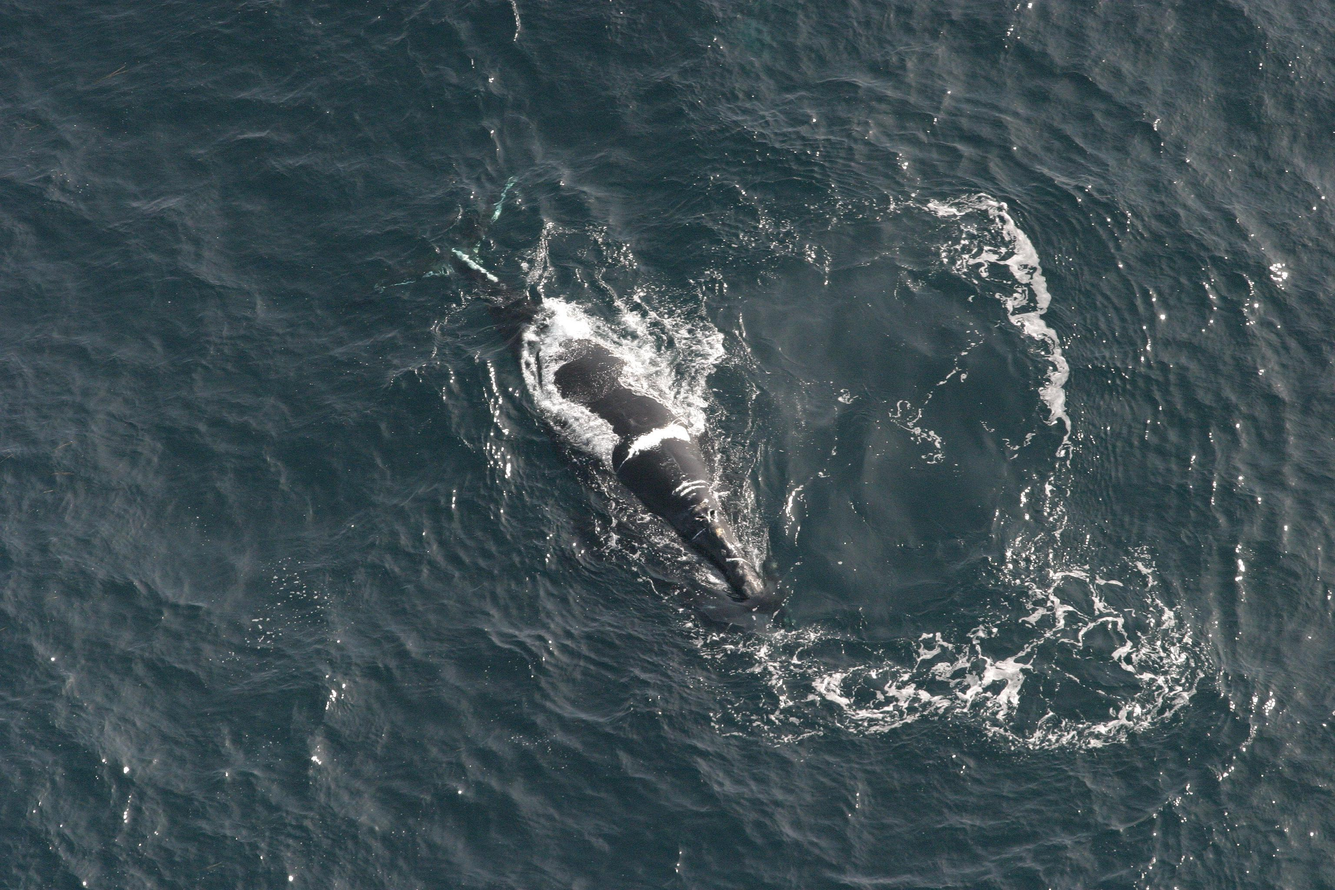whale: (347, 154, 804, 651)
